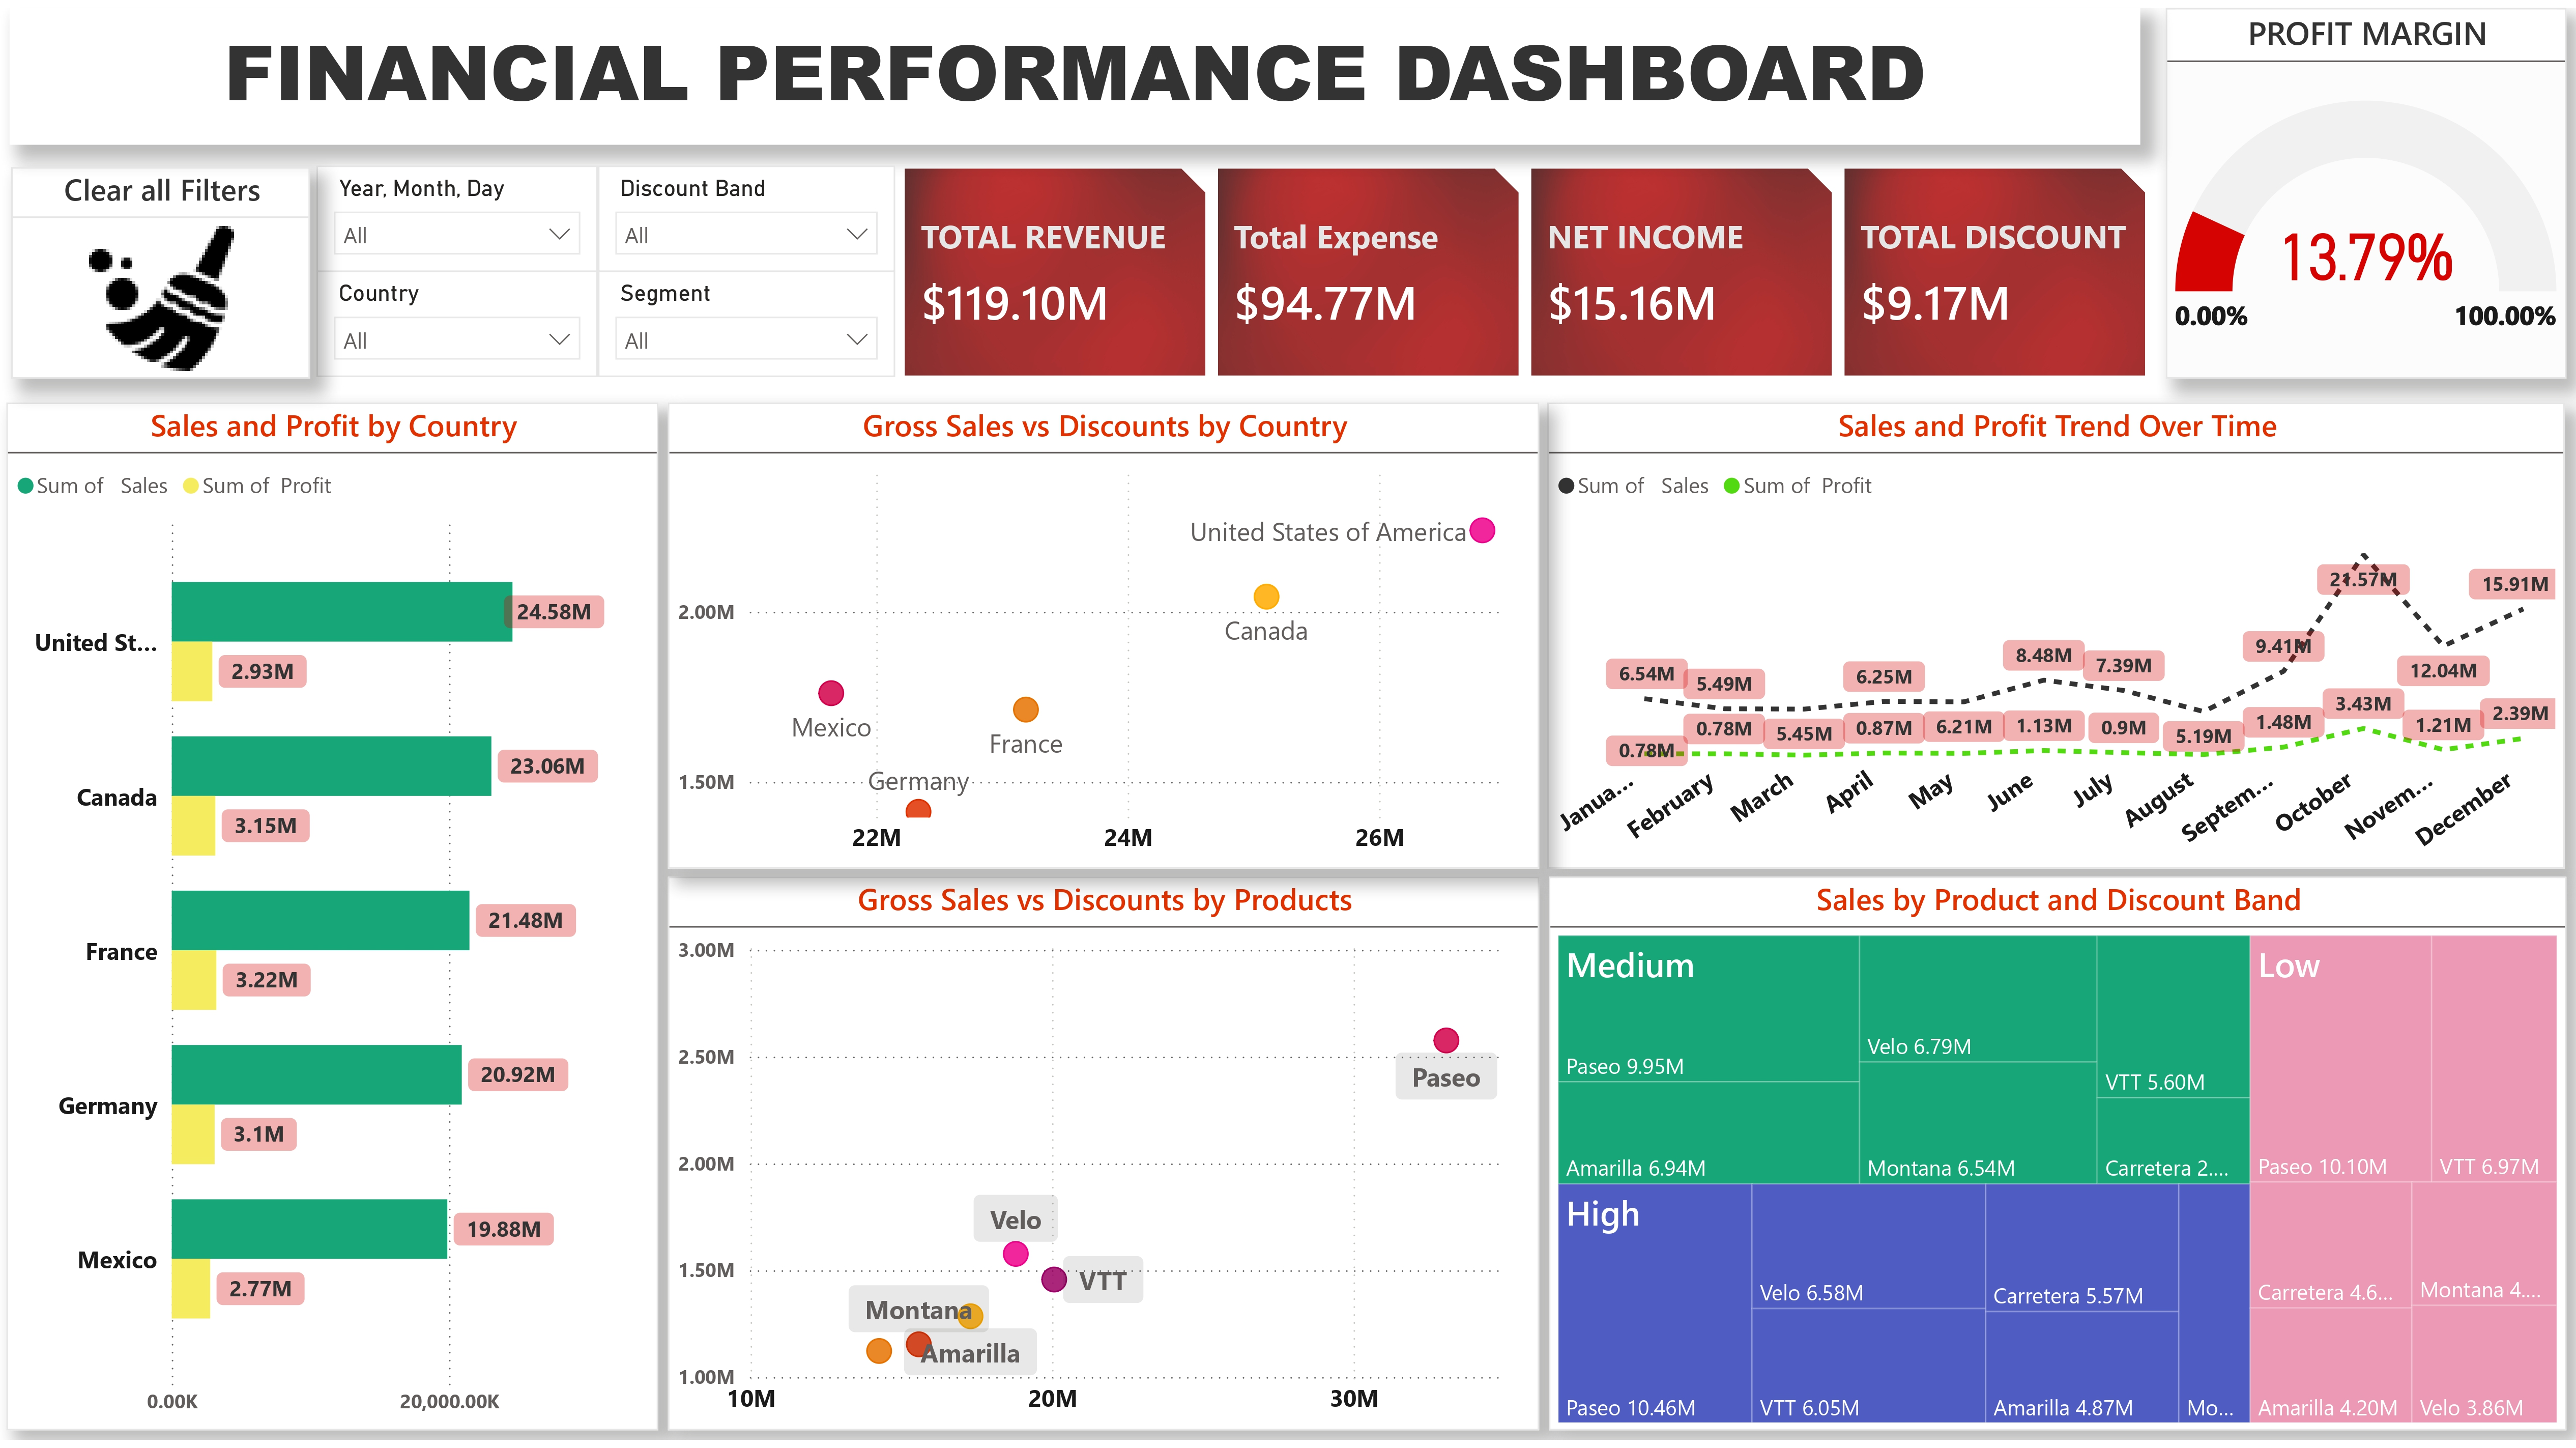

What the dashboard file says about the page in this screenshot:
{"tool":"powerbi","page":{"name":"DASHBOARD","canvas":[1620,900],"ordinal":0},"visuals":[{"type":"cardVisual","fields":{"Data":["financial_data.TOTAL REVENUE","financial_data.Total Expense","financial_data.NET INCOME","financial_data.TOTAL DISCOUNT"]},"box":[564,96,792,140],"z":0},{"type":"gauge","fields":{"Y":["financial_data.PROFIT MARGIN"]},"box":[1361.7,0,251.7,233.3],"z":1000},{"type":"textbox","box":[6,0,1340,86],"z":2000},{"type":"clusteredBarChart","title":"Sales and Profit by Country","fields":{"Category":["financial_data.Country"],"Y":["financial_data.  Sales ","financial_data. Profit "]},"box":[4,248,410,646],"z":3000},{"type":"lineChart","title":"Sales and Profit Trend Over Time","fields":{"Category":["financial_data.Date.Variation.Date Hierarchy.Month"],"Y":["financial_data.  Sales ","financial_data. Profit "]},"box":[973.3,248.3,640,293.3],"z":4000},{"type":"scatterChart","title":"Gross Sales vs Discounts by Products","fields":{"X":["financial_data.Gross Sales"],"Y":["financial_data. Discounts "],"Category":["financial_data. Product "],"Series":["financial_data. Product "]},"box":[420,546,548,348],"z":5000},{"type":"scatterChart","title":"Gross Sales vs Discounts by Country","fields":{"X":["financial_data.Gross Sales"],"Y":["financial_data. Discounts "],"Series":["financial_data.Country"],"Category":["financial_data.Country"]},"box":[420,248.3,548.3,293.3],"z":6000},{"type":"treemap","title":"Sales by Product and Discount Band ","fields":{"Group":["financial_data. Discount Band "],"Values":["financial_data.  Sales "],"Details":["financial_data.Product"]},"box":[974,546,640,348],"z":7000},{"type":"slicer","fields":{"Values":["financial_data.Segment"]},"box":[376,165.3,186.7,66.7],"z":8000},{"type":"slicer","fields":{"Values":["financial_data.Country"]},"box":[199.3,165.3,176.7,66.7],"z":9000},{"type":"slicer","fields":{"Values":["financial_data.Date.Variation.Date Hierarchy.Year","financial_data.Date.Variation.Date Hierarchy.Month","financial_data.Date.Variation.Date Hierarchy.Day"]},"box":[199.3,98.7,176.7,66.7],"z":10000},{"type":"slicer","fields":{"Values":["financial_data. Discount Band "]},"box":[376,98.7,186.7,66.7],"z":11000},{"type":"image","title":"Clear all Filters","box":[6.7,100,188.3,133.3],"z":12000}]}

Visuals, with their boxes in screenshot pixels (x1, y1, x2, y2), scaled from the page's 1620x900 canvas onto the 2576x1448 screenshot:
cardVisual - financial_data.TOTAL REVENUE x financial_data.Total Expense: Rect(897, 154, 2156, 380)
gauge - financial_data.PROFIT MARGIN: Rect(2165, 0, 2565, 375)
textbox: Rect(10, 0, 2140, 138)
"Sales and Profit by Country" clusteredBarChart: Rect(7, 399, 658, 1438)
"Sales and Profit Trend Over Time" lineChart: Rect(1548, 400, 2565, 871)
"Gross Sales vs Discounts by Products" scatterChart: Rect(668, 878, 1539, 1438)
"Gross Sales vs Discounts by Country" scatterChart: Rect(668, 400, 1540, 871)
"Sales by Product and Discount Band " treemap: Rect(1549, 878, 2566, 1438)
slicer - financial_data.Segment: Rect(598, 266, 895, 373)
slicer - financial_data.Country: Rect(317, 266, 598, 373)
slicer - financial_data.Date.Variation.Date Hierarchy.Year x financial_data.Date.Variation.Date Hierarchy.Month: Rect(317, 159, 598, 266)
slicer - financial_data. Discount Band : Rect(598, 159, 895, 266)
"Clear all Filters" image: Rect(11, 161, 310, 375)
